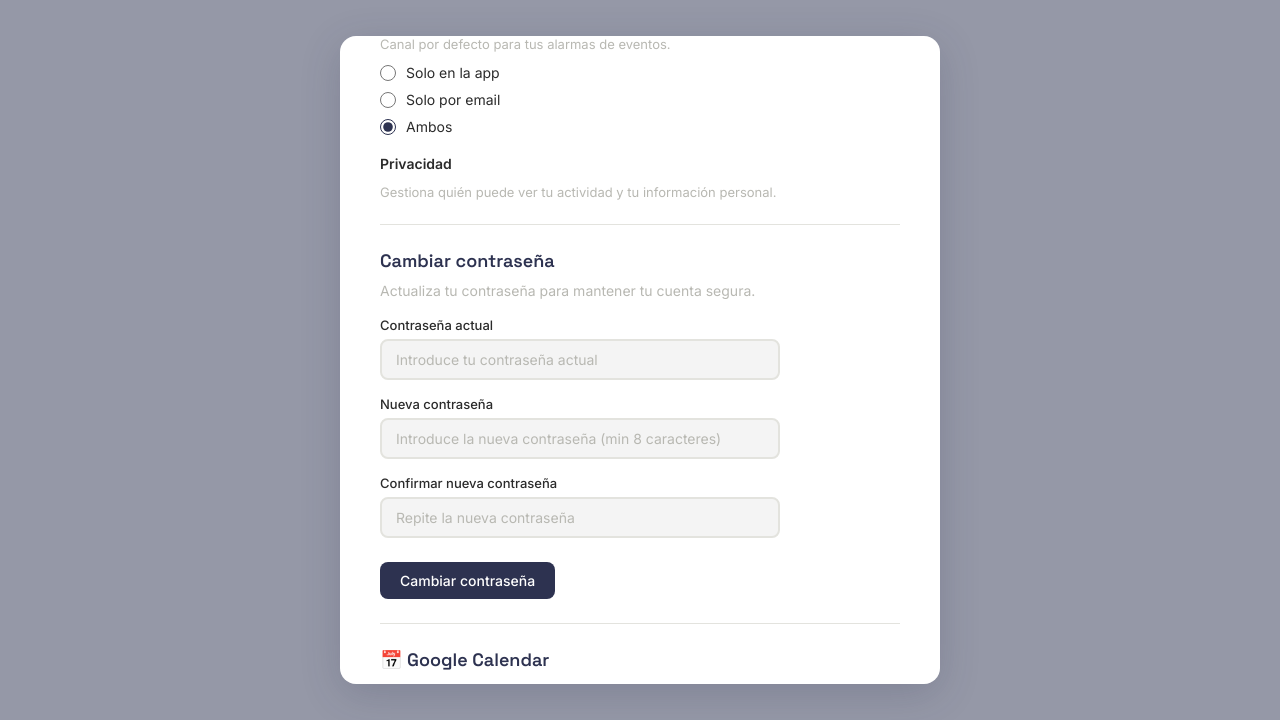
Test: Settings › password change - too short
(page scrolled)
Type "OldPass1" into the password field with placeholder "Introduce tu contraseña actual" at (580, 360), box [380,339,780,380]
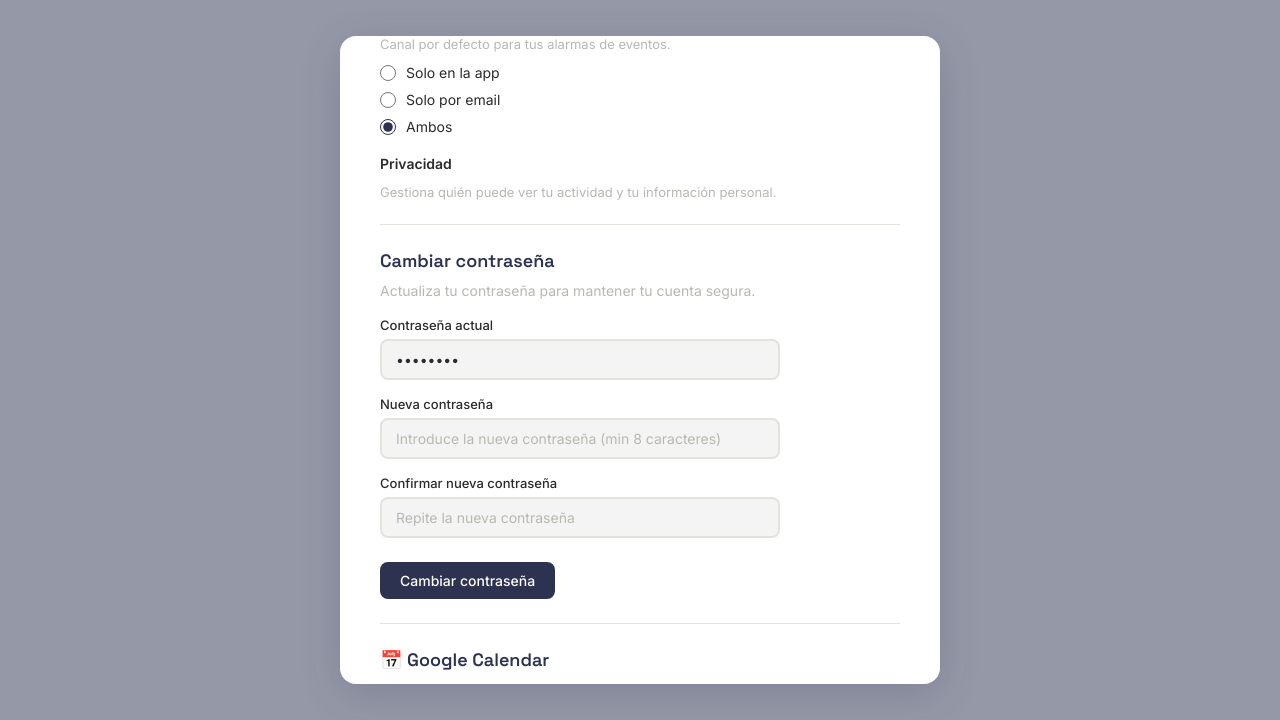
Type "Ab1" into the password field with placeholder "Introduce la nueva contraseña (min 8 caracteres)" at (580, 438), box [380,418,780,459]
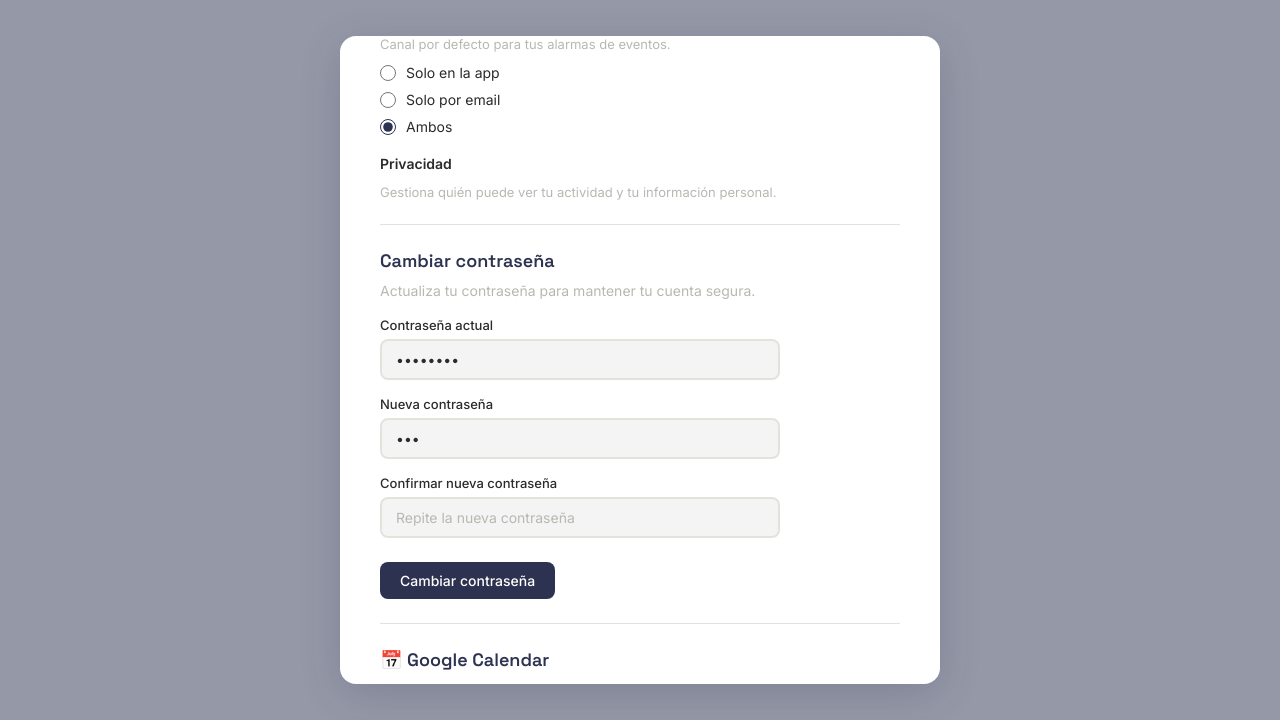
Type "Ab1" into the password field with placeholder "Repite la nueva contraseña" at (580, 518), box [380,497,780,538]
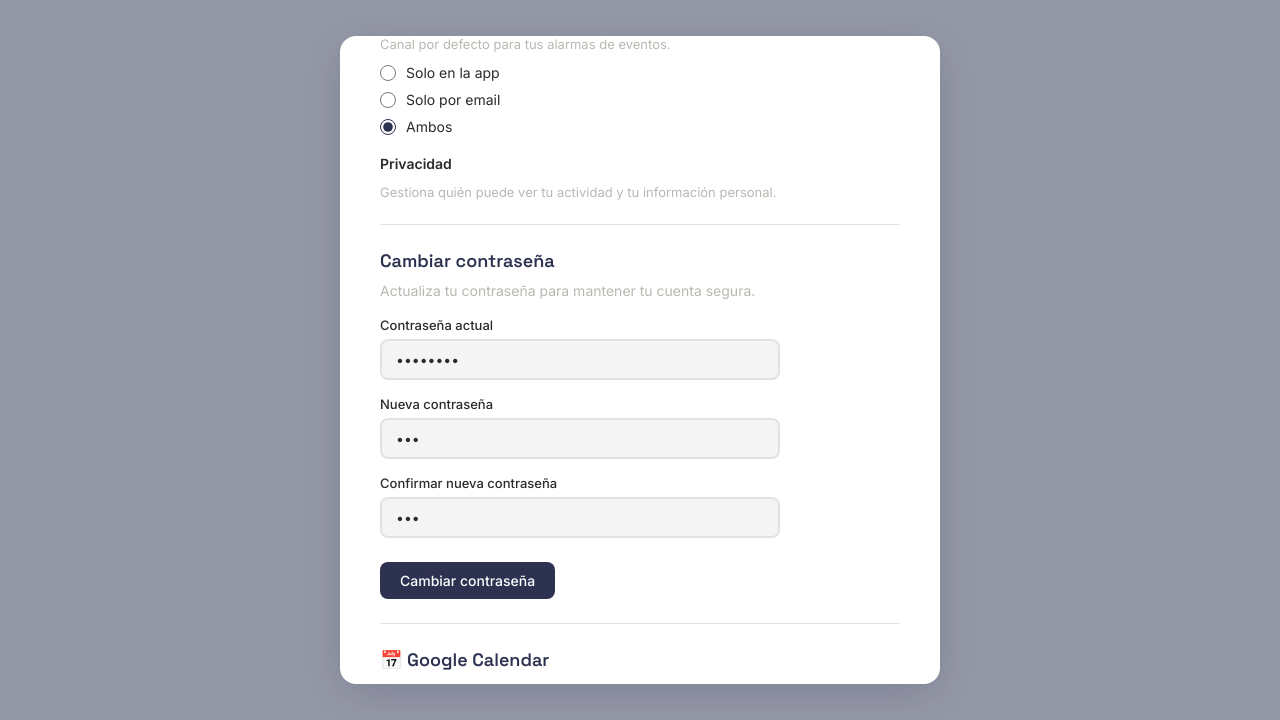
Click the button "Cambiar contraseña" at (468, 580), box [380,562,555,599]
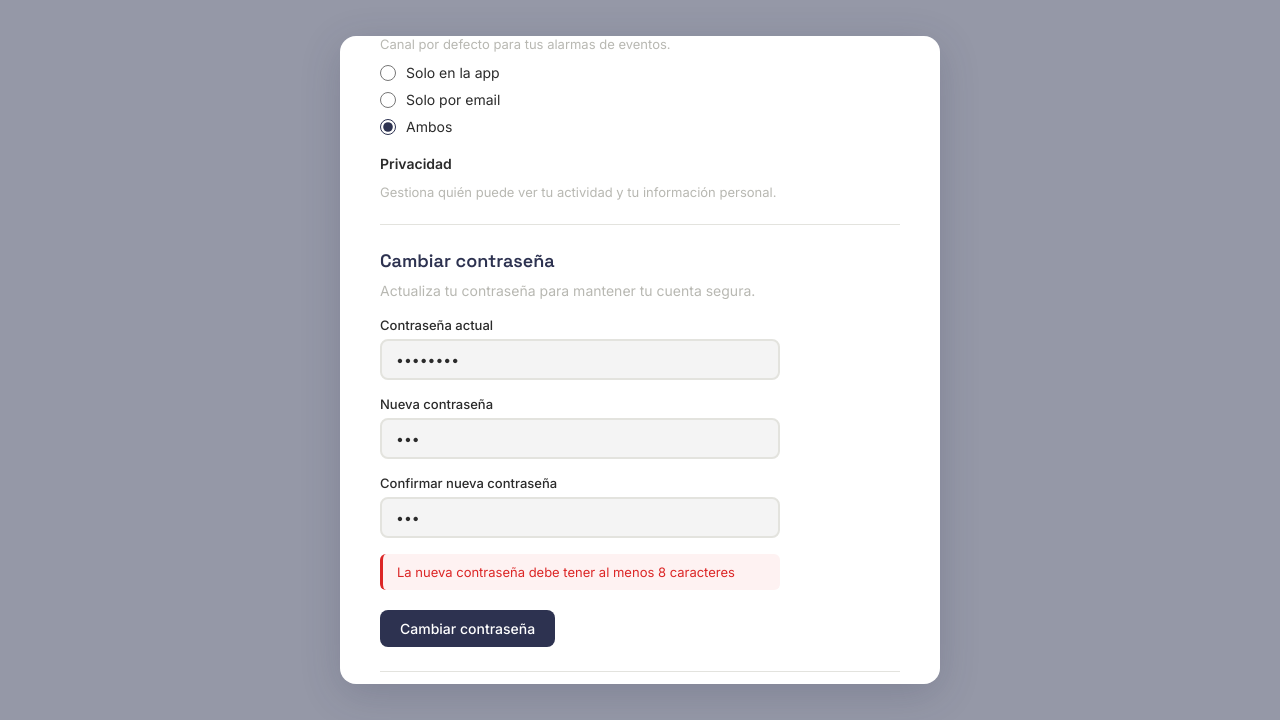
Now the text "La nueva contraseña debe tener al menos 8 caracteres" is shown, box [380,554,780,590]
